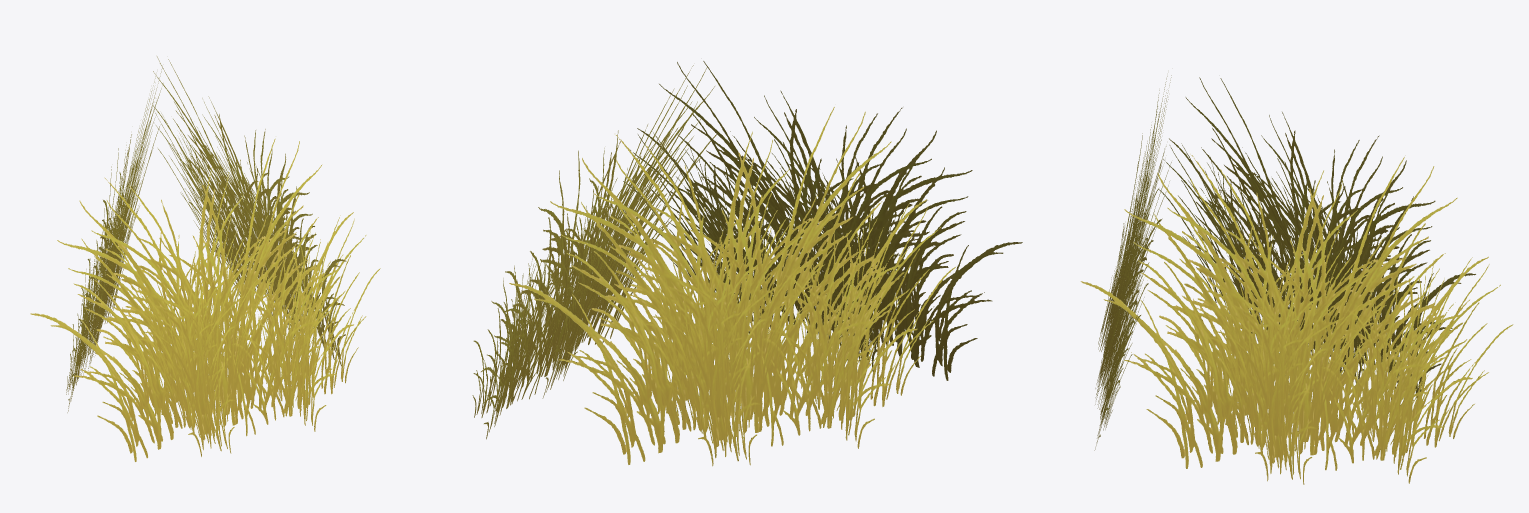
Rendered from patoModelo.fbx.
3 renders of one model, left to right at view 1: azimuth 30°, elevation 25°; view 2: azimuth 150°, elevation 25°; view 3: azimuth 270°, elevation 25°, orthographic. The views are drawn at different scales.
Visible parts, largest first — view 1: pPlane8; view 2: pPlane8; view 3: pPlane8.
Boxes of the visible parts, x1,y1,x2,y2 form: pPlane8: (30,56,380,461); pPlane8: (472,61,1022,466); pPlane8: (1080,75,1513,484).
Size of the model in its own units: 5.29 by 4.17 by 5.29.
